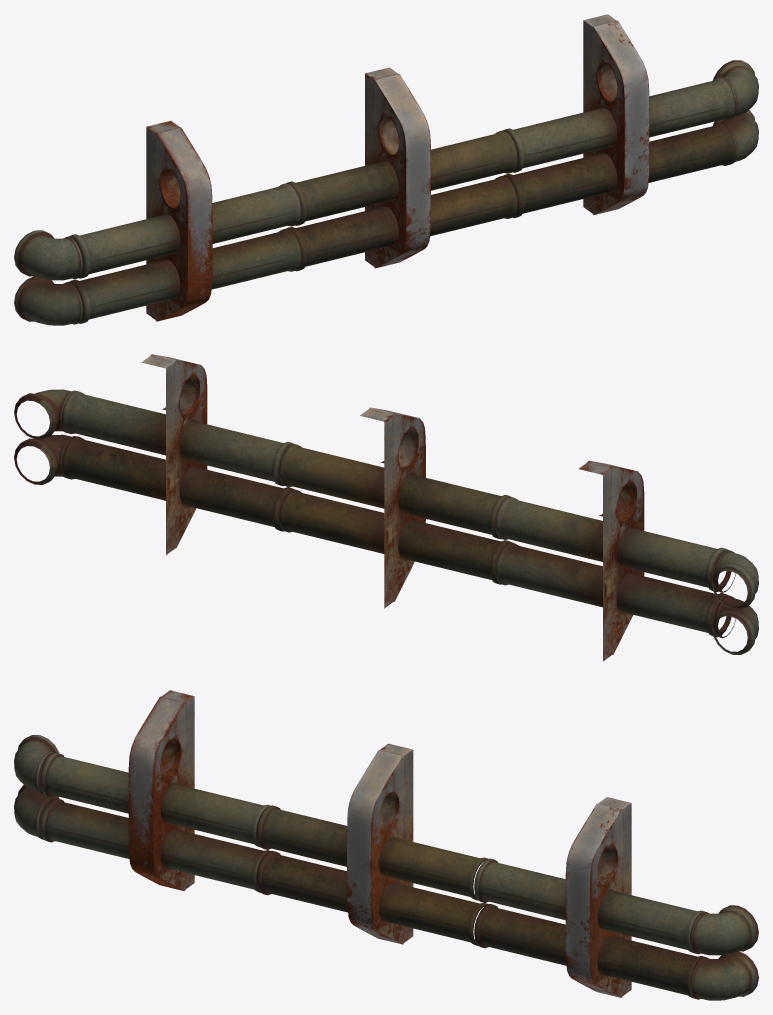
File: double_pipe_straight.glb
3 views of the same model, one above another, from view 1: azimuth 30°, elevation 25°; view 2: azimuth 150°, elevation 25°; view 3: azimuth 330°, elevation 25° (orthographic).
Visible parts, largest first — view 1: SM_DoublePipeStraight; view 2: SM_DoublePipeStraight; view 3: SM_DoublePipeStraight.
Part boxes in pixels (x1=…): SM_DoublePipeStraight: x1=14, y1=14, x2=758, y2=325; SM_DoublePipeStraight: x1=14, y1=354, x2=758, y2=661; SM_DoublePipeStraight: x1=14, y1=690, x2=758, y2=1000.
Size of the model in its own units: 8.53 by 2.07 by 0.8279.
Materials: 1 (1 with a texture image).
